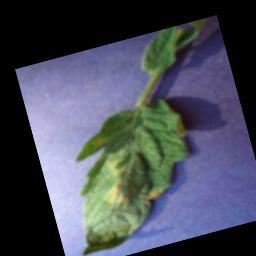Leaf_Mold: (94, 153, 139, 213)
